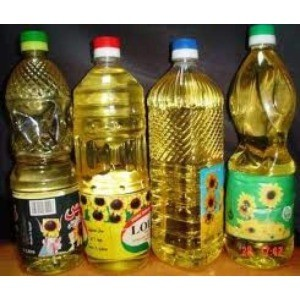vegetable oil_brain food: (10, 79, 69, 268), (147, 97, 215, 250), (228, 101, 290, 256), (78, 89, 130, 257)
